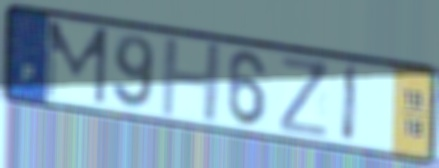6: (226, 49, 272, 129)
9: (110, 31, 156, 112)
H: (158, 37, 224, 125)
I: (339, 60, 361, 147)
M: (42, 18, 111, 108)
Z: (278, 53, 332, 141)
